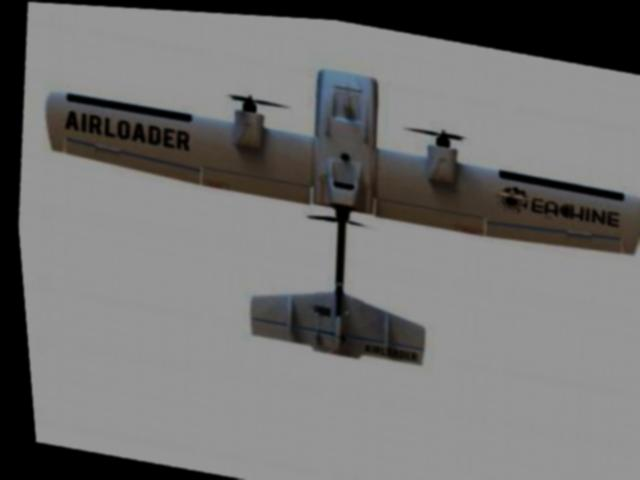uav: (14, 14, 640, 399)
